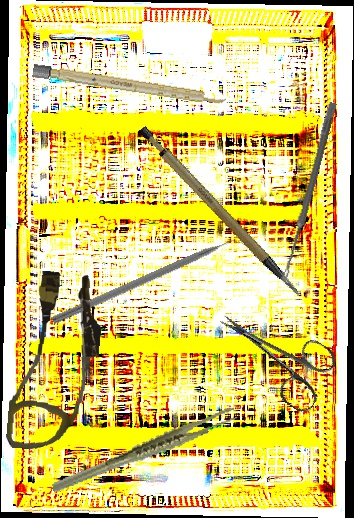Cannula: (5, 268, 106, 455)
Chopper: (51, 232, 249, 335)
Iris Scissors: (202, 290, 344, 417)
Scalpel Handle: (135, 108, 302, 319), (32, 63, 227, 108)
Surgical Spoon: (281, 101, 337, 280)
Tissue Forceps: (43, 405, 246, 495)
